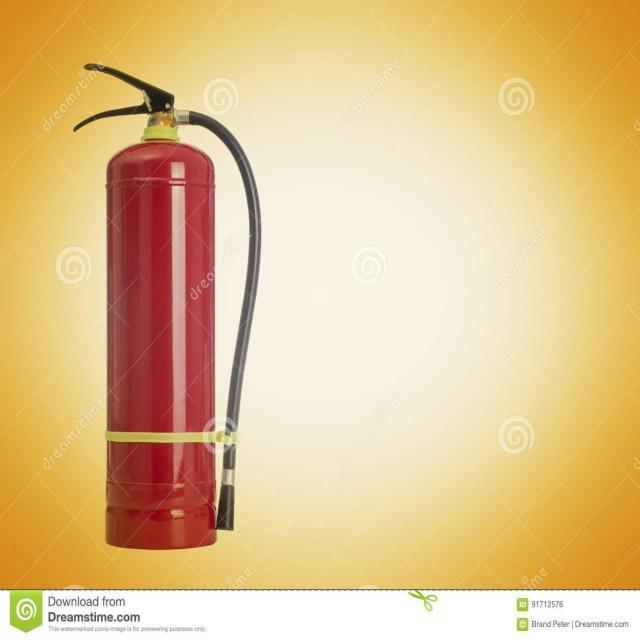fire_extinguisher: (68, 56, 267, 558)
